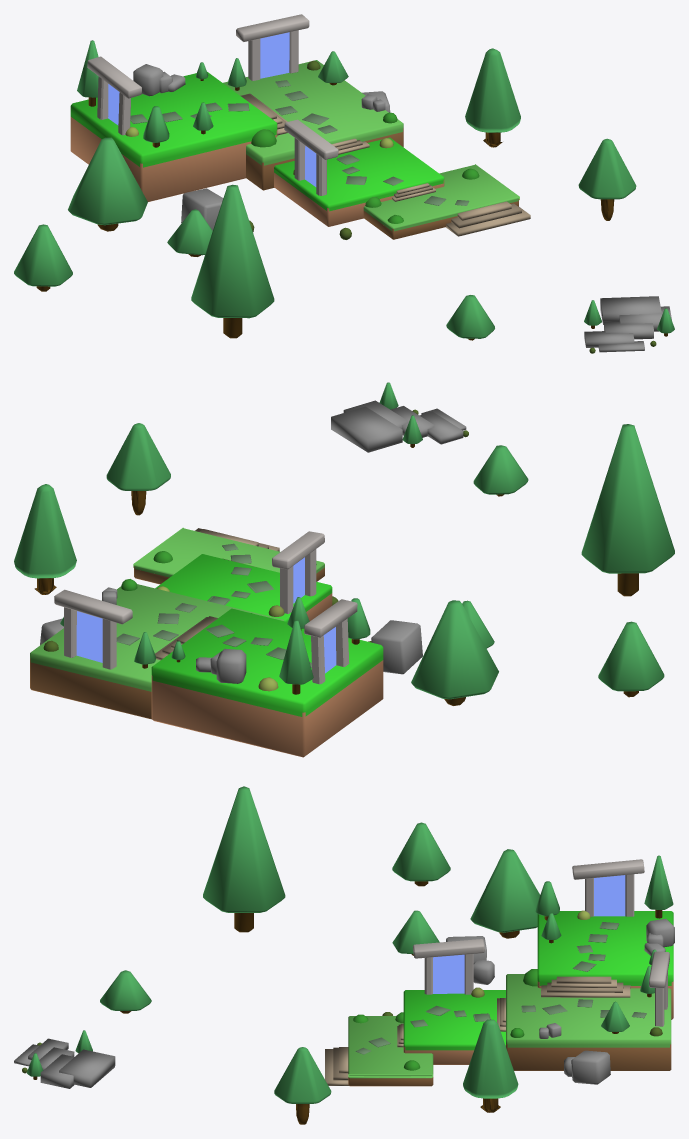
Rendered from environment.glb.
3 views of the same model, one above another, from view 1: azimuth 30°, elevation 25°; view 2: azimuth 150°, elevation 25°; view 3: azimuth 270°, elevation 25° (orthographic). The views are drawn at different scales.
Visible parts, largest first — view 1: terrain, terrain.001, trees.005, terrain.002, terrain.003, trees.002, trees.013, trees.014, trees.016, trees.007, trees.018, portals.002 (+15 smaller); view 2: terrain, terrain.001, trees.005, trees.002, terrain.002, trees.013, terrain.003, trees.014, trees.016, rocks.009, rocks, trees.007 (+13 smaller); view 3: terrain.001, terrain, trees.005, terrain.002, terrain.003, trees.002, trees.013, trees.014, trees.016, trees.007, rocks.009, portals.001 (+12 smaller).
Part boxes in pixels (box(x1,y1,x2,y2)): terrain: box(70, 72, 277, 201); terrain.001: box(223, 60, 403, 190); trees.005: box(191, 184, 274, 338); terrain.002: box(274, 137, 444, 226); terrain.003: box(363, 164, 519, 239); trees.002: box(68, 137, 147, 231); trees.013: box(465, 48, 520, 147); trees.014: box(578, 138, 636, 220); trees.016: box(14, 224, 72, 291); trees.007: box(446, 295, 494, 340); trees.018: box(167, 209, 212, 256); portals.002: box(260, 32, 289, 78); terrain: box(151, 608, 383, 757); terrain.001: box(30, 584, 283, 719); trees.005: box(581, 424, 674, 596); trees.002: box(411, 600, 498, 705); terrain.002: box(155, 554, 332, 621); trees.013: box(14, 484, 76, 594); terrain.003: box(133, 527, 324, 584); trees.014: box(106, 423, 170, 515); trees.016: box(598, 621, 664, 697); rocks.009: box(331, 406, 402, 452); rocks: box(371, 620, 422, 674); trees.007: box(473, 445, 528, 496); terrain.001: box(506, 974, 671, 1070); terrain: box(537, 911, 673, 1019); trees.005: box(203, 786, 285, 932); terrain.002: box(403, 990, 505, 1064); terrain.003: box(348, 1016, 433, 1086); trees.002: box(470, 849, 539, 938); trees.013: box(463, 1019, 518, 1112); trees.014: box(274, 1047, 331, 1124); trees.016: box(392, 822, 450, 886); trees.007: box(100, 970, 151, 1013); rocks.009: box(59, 1049, 115, 1087); portals.001: box(594, 875, 625, 916).
Size of what is drawn, in the model's own units: 40.44 by 11.16 by 44.54.
